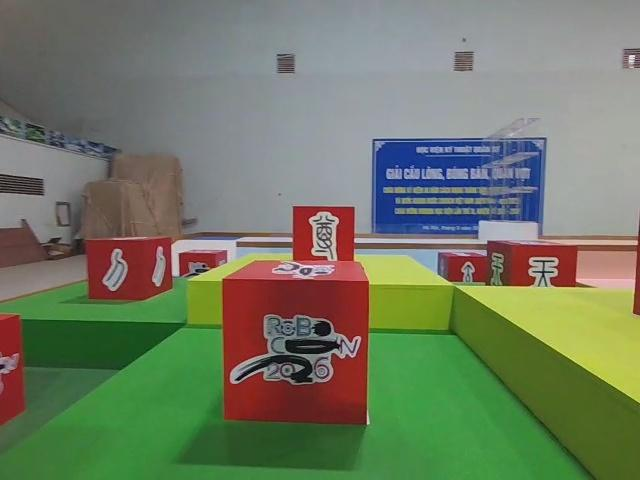R1: (219, 257, 372, 429), (177, 247, 229, 283)
R2 Fake: (289, 201, 358, 266)
R2 Real: (83, 233, 174, 303), (483, 237, 581, 299), (434, 249, 490, 287)
